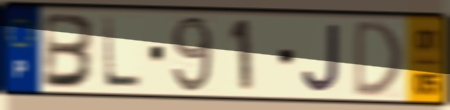1: (228, 16, 256, 94)
9: (168, 13, 216, 95)
B: (41, 10, 99, 91)
D: (351, 17, 405, 100)
J: (300, 21, 342, 94)
L: (101, 14, 145, 91)
